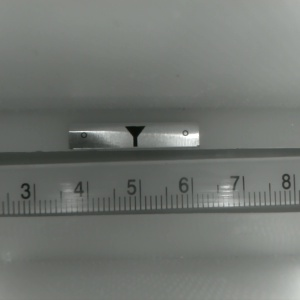3: (19, 184, 30, 199)
4: (73, 182, 83, 196)
5: (126, 179, 136, 195)
6: (177, 176, 188, 193)
7: (229, 176, 239, 193)
8: (281, 173, 290, 189)
finger: (124, 126, 145, 147)
